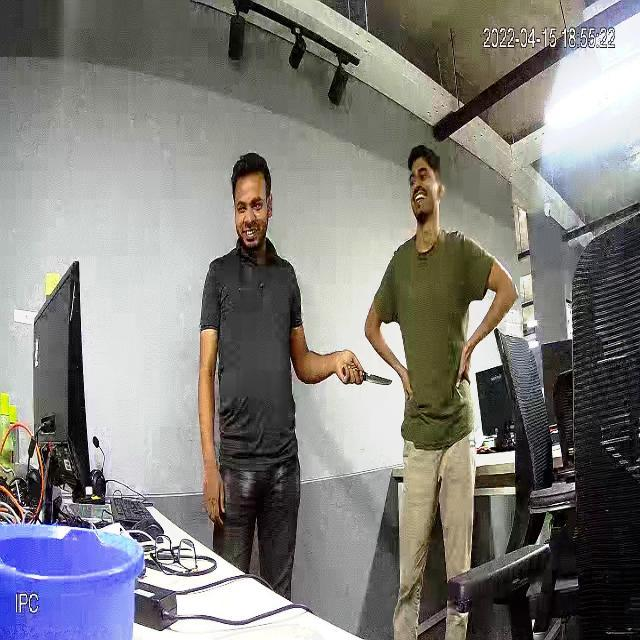Knife: (336, 351, 403, 402)
